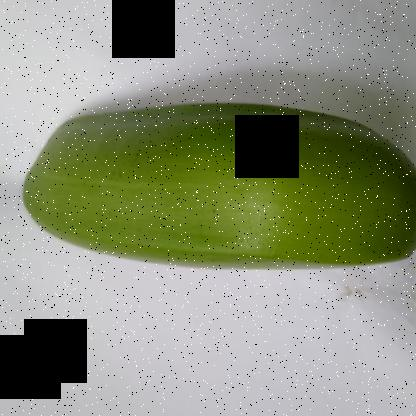freshunripe: (17, 100, 415, 277)
